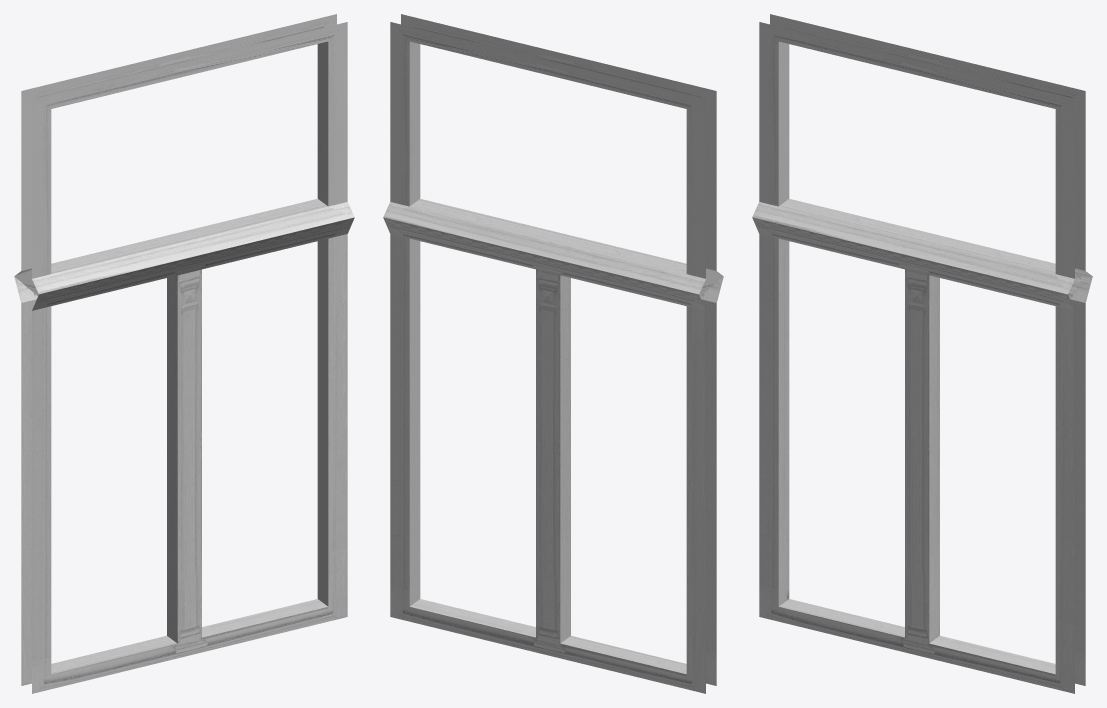
File: Window1C.fbx
3 views of the same model, side by side, from view 1: azimuth 30°, elevation 25°; view 2: azimuth 150°, elevation 25°; view 3: azimuth 330°, elevation 25° (orthographic).
Parts seen in each view (by area): view 1: Window1C; view 2: Window1C; view 3: Window1C.
Part boxes in pixels (<box>): Window1C: <box>14,14,354,693</box>; Window1C: <box>383,14,723,693</box>; Window1C: <box>752,14,1092,693</box>.
Bounding box in the file's own units: 100 × 180 × 13.57.
